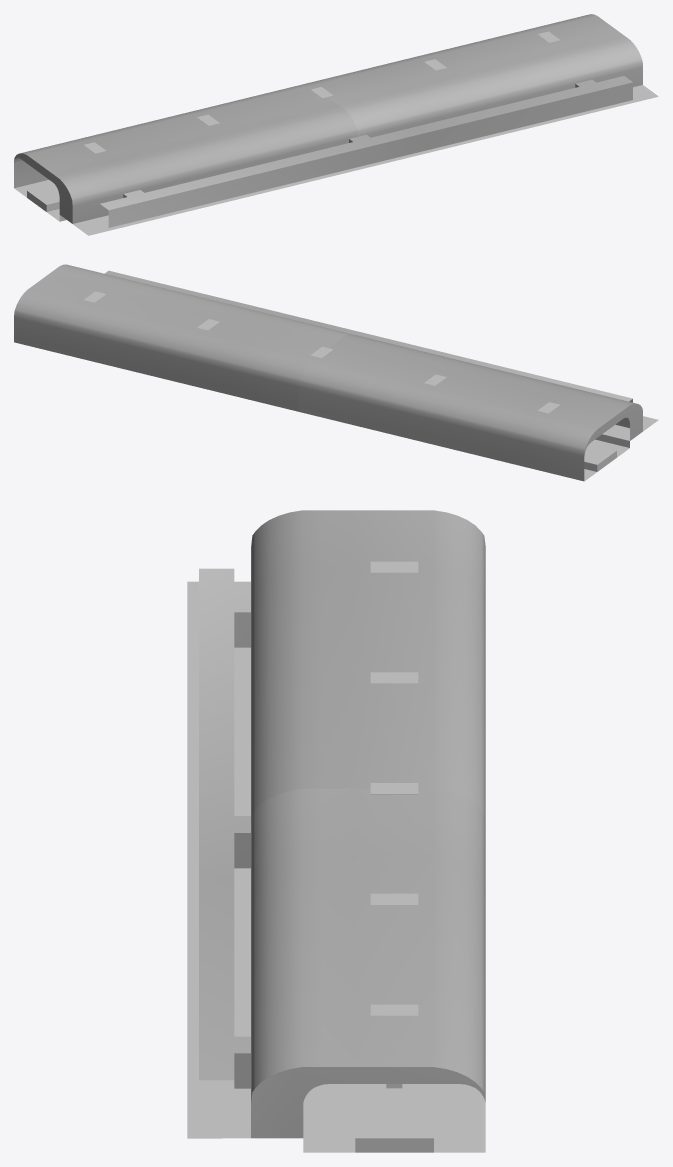
File: PH_Station_Hole.fbx
3 renders of one model, top to bottom at view 1: azimuth 30°, elevation 25°; view 2: azimuth 150°, elevation 25°; view 3: azimuth 270°, elevation 25°, orthographic. The views are drawn at different scales.
Parts seen in each view (by area): view 1: Shell.001, LeftBank.001, Pillars.001, CentralBank.001, Floor.001; view 2: Shell.001, Pillars.001, CentralBank.001, LeftBank.001, Floor.001; view 3: Shell.001, LeftBank.001, Floor.001, CentralBank.001, Pillars.001.
Part boxes in pixels (box(x1,y1,x2,y2)): Shell.001: box(14, 14, 642, 227); LeftBank.001: box(59, 85, 658, 235); Pillars.001: box(84, 31, 560, 153); CentralBank.001: box(27, 184, 59, 211); Floor.001: box(14, 180, 59, 221); Shell.001: box(14, 264, 642, 481); Pillars.001: box(84, 291, 560, 413); CentralBank.001: box(584, 444, 616, 471); LeftBank.001: box(595, 416, 658, 447); Floor.001: box(584, 439, 629, 481); Shell.001: box(199, 510, 485, 1138); LeftBank.001: box(187, 581, 250, 1138); Floor.001: box(303, 1084, 485, 1152); CentralBank.001: box(355, 1084, 433, 1152); Pillars.001: box(370, 561, 418, 1088).
Size of the model in its own units: 101 by 7.21 by 22.75.
